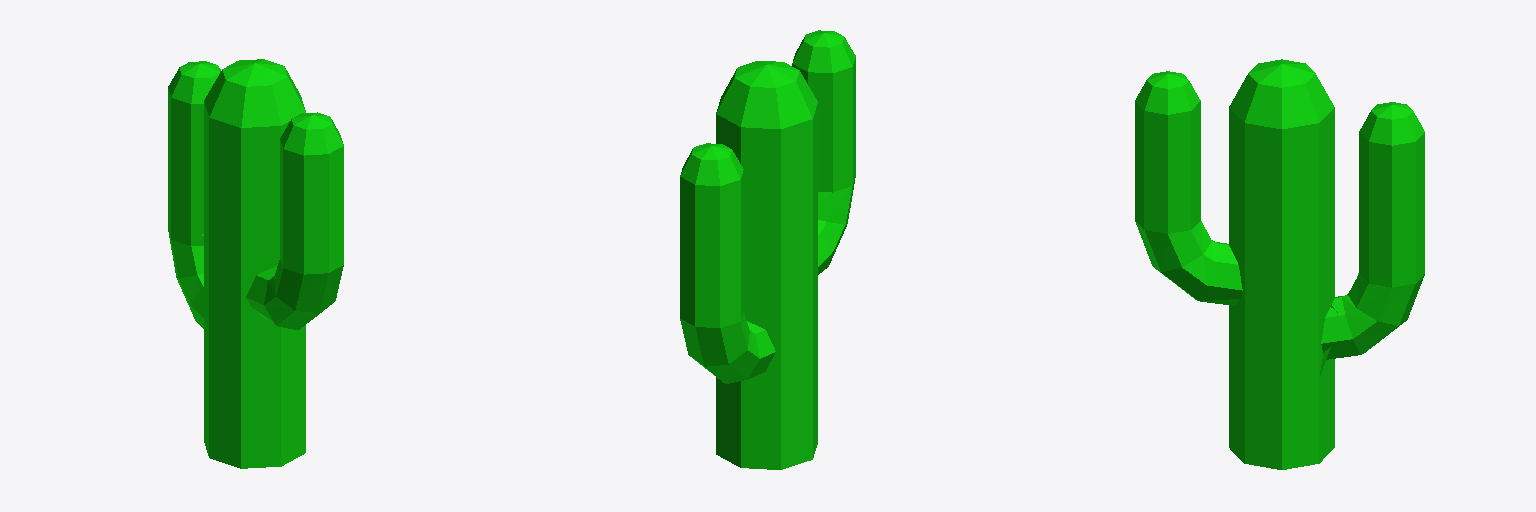
File: cactus2.obj
3 views of the same model, side by side, from view 1: azimuth 30°, elevation 25°; view 2: azimuth 150°, elevation 25°; view 3: azimuth 270°, elevation 25° (orthographic).
Visible parts, largest first — view 1: cactus012_frag_010, cactus012_frag_006, cactus012_frag_002, cactus012_frag_004, cactus012_frag_009, cactus012_frag_008, cactus012_frag_007, cactus012_frag_001, cactus012_frag_005, cactus012_frag_011, cactus012_frag_003; view 2: cactus012_frag_009, cactus012_frag_006, cactus012_frag_008, cactus012_frag_004, cactus012_frag_007, cactus012_frag_002, cactus012_frag_005, cactus012_frag_001, cactus012_frag_010; view 3: cactus012_frag_002, cactus012_frag_006, cactus012_frag_008, cactus012_frag_010, cactus012_frag_004, cactus012_frag_009, cactus012_frag_007, cactus012_frag_003, cactus012_frag_005.
Part boxes in pixels (x1,y1,x2,y2): cactus012_frag_010: (209,332,305,468); cactus012_frag_006: (204,59,305,195); cactus012_frag_002: (208,226,343,347); cactus012_frag_004: (204,188,279,276); cactus012_frag_009: (168,189,227,455); cactus012_frag_008: (168,61,220,193); cactus012_frag_007: (280,112,343,190); cactus012_frag_001: (281,166,322,249); cactus012_frag_005: (280,185,343,245); cactus012_frag_011: (274,300,332,329); cactus012_frag_003: (171,191,203,235); cactus012_frag_009: (680,279,815,469); cactus012_frag_006: (716,61,817,227); cactus012_frag_008: (680,143,743,294); cactus012_frag_004: (744,171,817,307); cactus012_frag_007: (792,30,855,127); cactus012_frag_002: (804,151,855,328); cactus012_frag_005: (818,121,848,184); cactus012_frag_001: (840,70,855,166); cactus012_frag_010: (716,320,817,460); cactus012_frag_002: (1135,176,1340,398); cactus012_frag_006: (1229,59,1334,221); cactus012_frag_008: (1359,102,1424,250); cactus012_frag_010: (1229,315,1321,469); cactus012_frag_004: (1229,170,1334,308); cactus012_frag_009: (1311,243,1424,460); cactus012_frag_007: (1135,71,1200,166); cactus012_frag_003: (1357,219,1423,306); cactus012_frag_005: (1135,136,1200,220).
Bounding box in the file's own units: 0.9164 × 3.67 × 2.52.